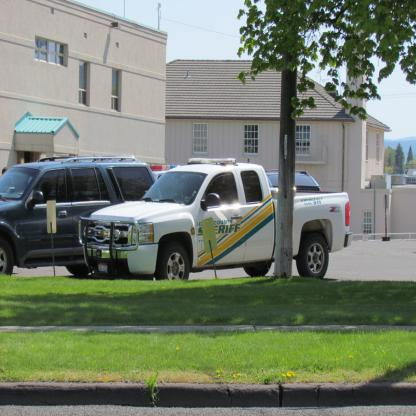Car: (6, 153, 150, 282)
Truck: (70, 154, 352, 290)
